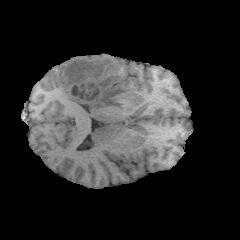glioma: (62, 57, 128, 108)
